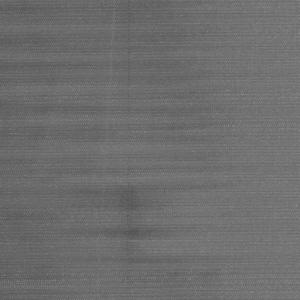Wrinkle: (1, 1, 224, 300)
